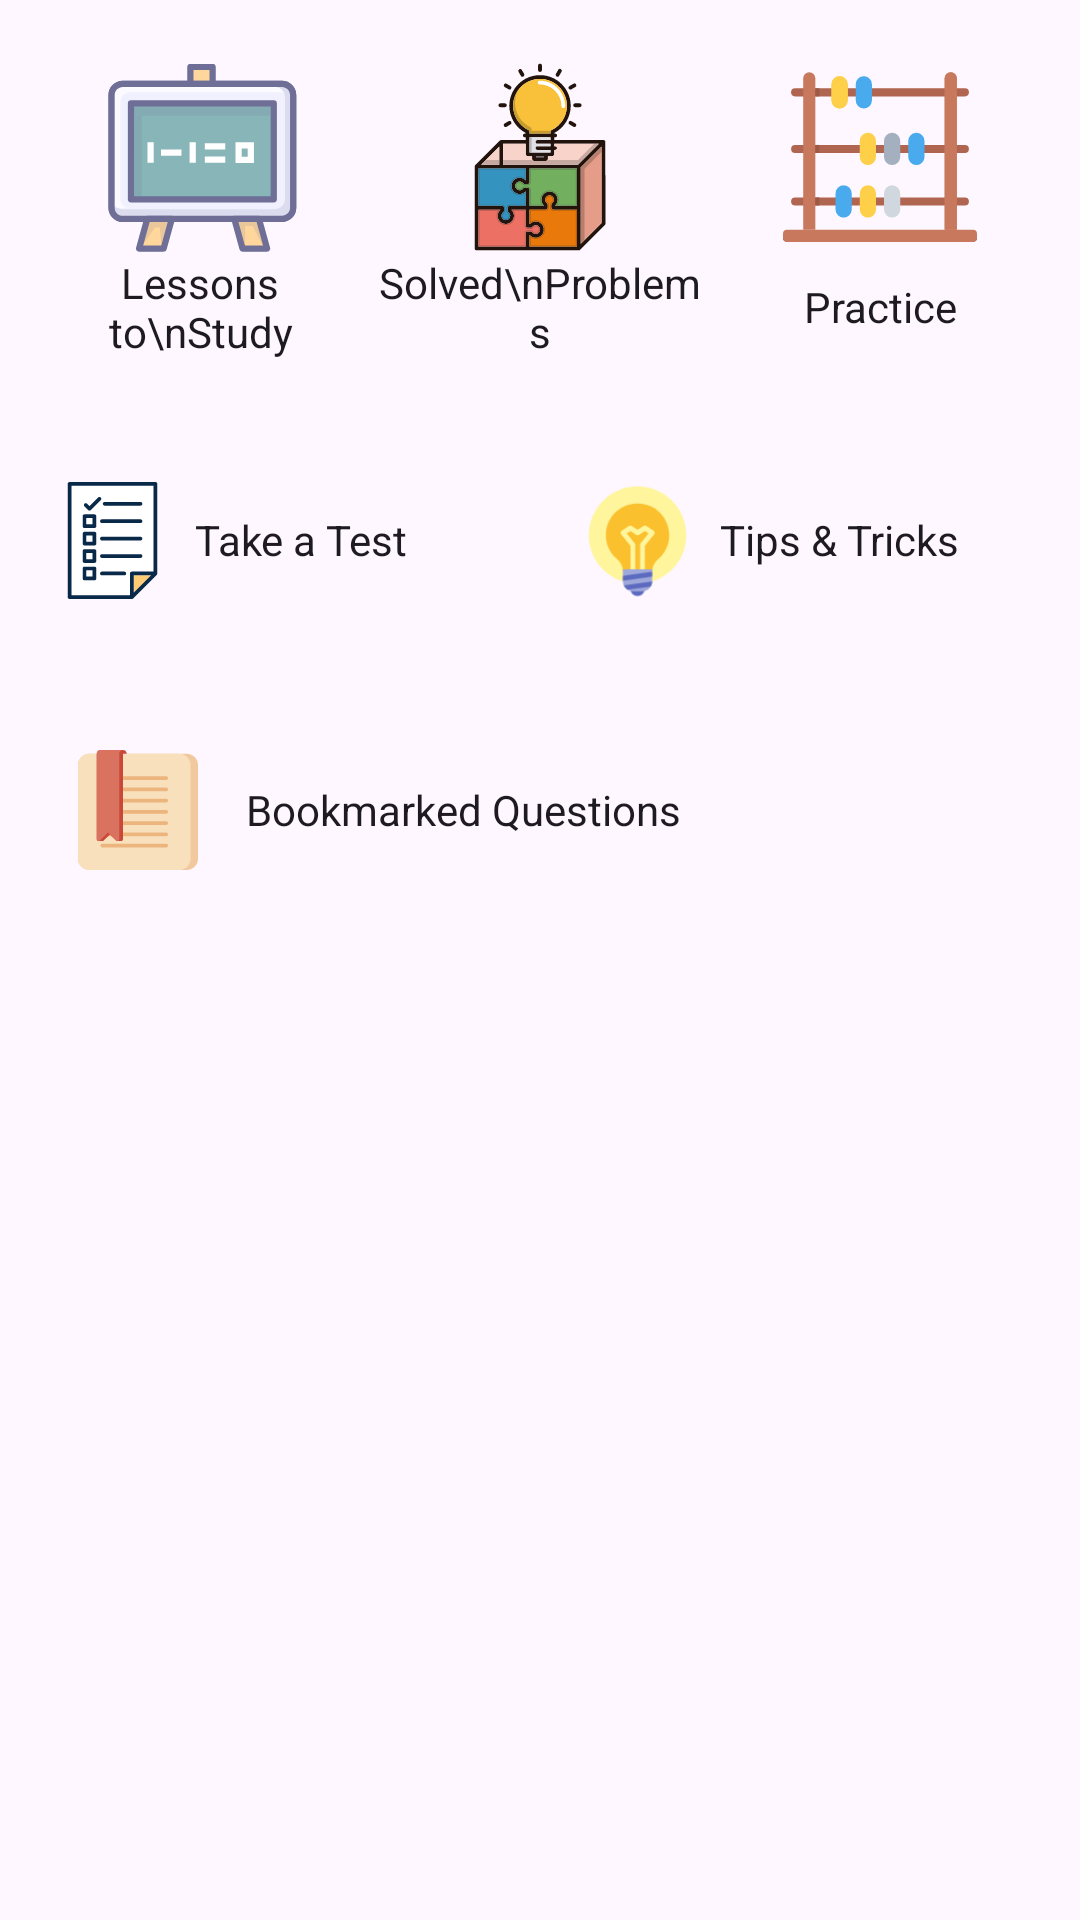

Icons on this 1080×1920 Android screen, each with its box as (x1,y1,x2,y2):
tip: (588,486,687,597)
